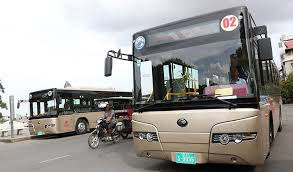bus: (131, 6, 283, 167), (28, 88, 136, 136)
